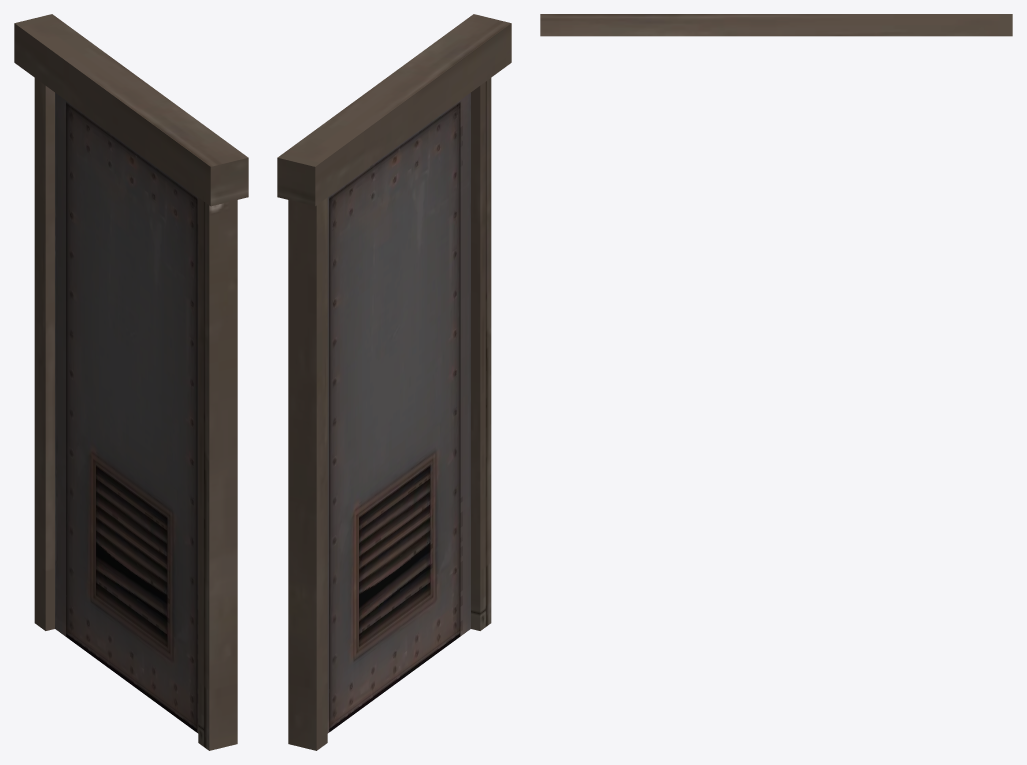
3 views of the same model, side by side, from view 1: azimuth 30°, elevation 25°; view 2: azimuth 150°, elevation 25°; view 3: azimuth 270°, elevation 25° (orthographic). The views are drawn at different scales.
Visible parts, largest first — view 1: body0_model0_lod0_mesh1, body0_model0_lod0_mesh0; view 2: body0_model0_lod0_mesh1, body0_model0_lod0_mesh0; view 3: body0_model0_lod0_mesh0.
Boxes of the visible parts, x1,y1,x2,y2 form: body0_model0_lod0_mesh1: (55,92,198,733); body0_model0_lod0_mesh0: (14,14,248,750); body0_model0_lod0_mesh1: (327,92,470,733); body0_model0_lod0_mesh0: (277,14,511,750); body0_model0_lod0_mesh0: (540,14,1012,36).
Size of the model in its own units: 8 by 120 by 72.
Materials: 2 (2 with a texture image).
